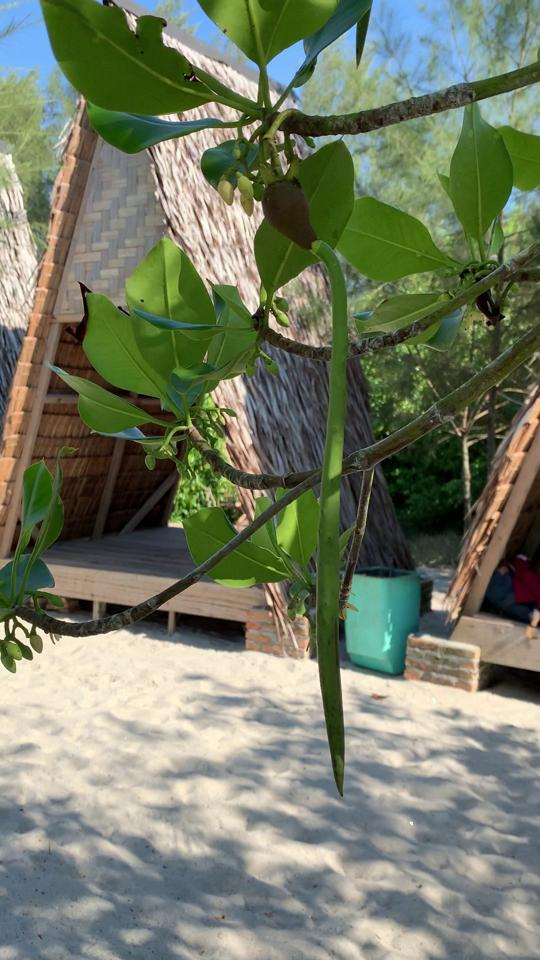setengah matang: (250, 167, 371, 810)
